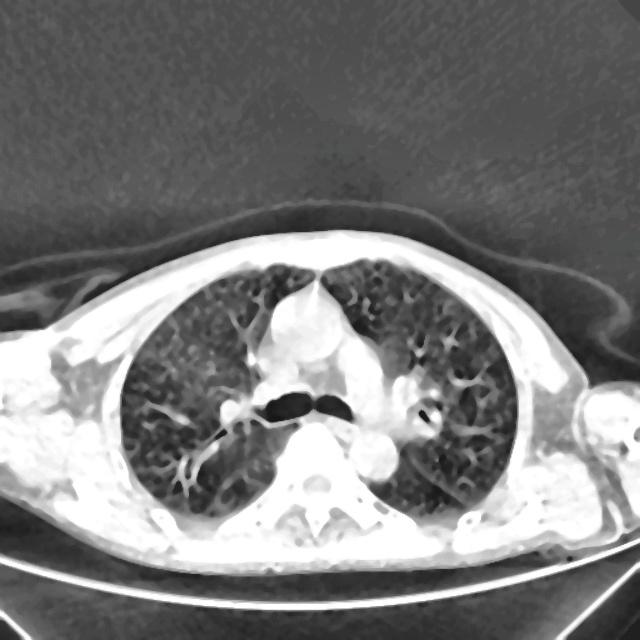covid: (1, 225, 638, 577)
